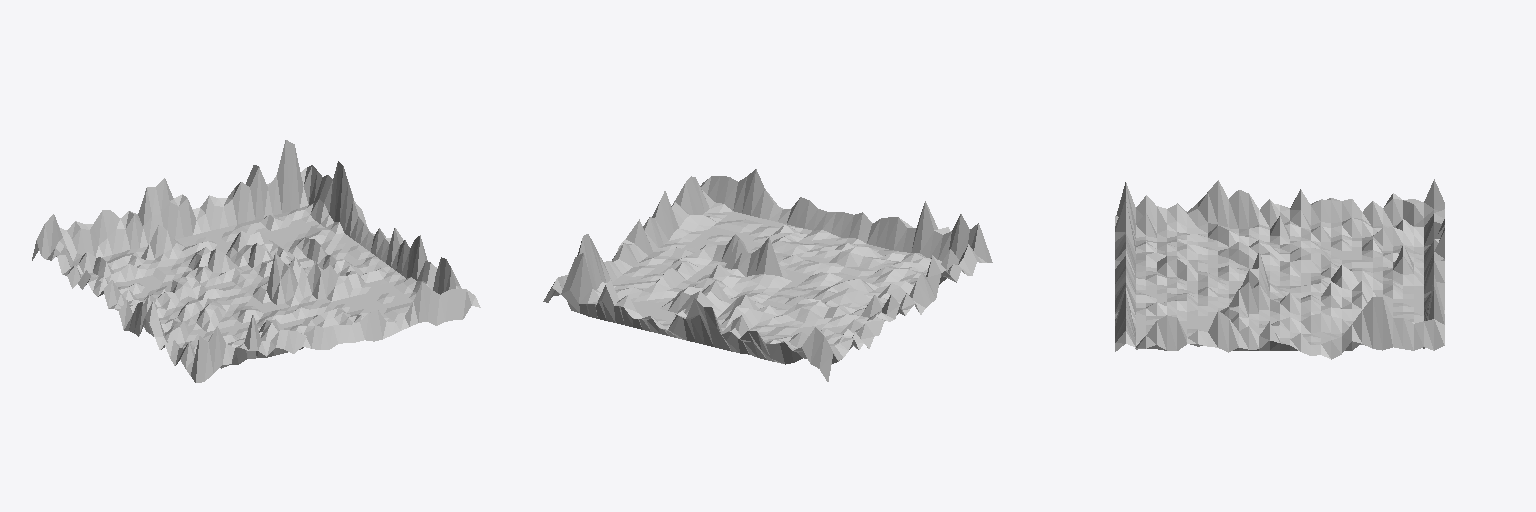
The model's file is Terrain.obj.
The picture shows the model from 3 angles: view 1: azimuth 30°, elevation 25°; view 2: azimuth 150°, elevation 25°; view 3: azimuth 270°, elevation 25°; orthographic projection.
Parts seen in each view (by area): view 1: Terrain; view 2: Terrain; view 3: Terrain.
Boxes of the visible parts, <box> form: Terrain: <box>32,140,480,382</box>; Terrain: <box>543,169,992,381</box>; Terrain: <box>1115,179,1444,359</box>.
Size of the model in its own units: 2000 by 458 by 2000.